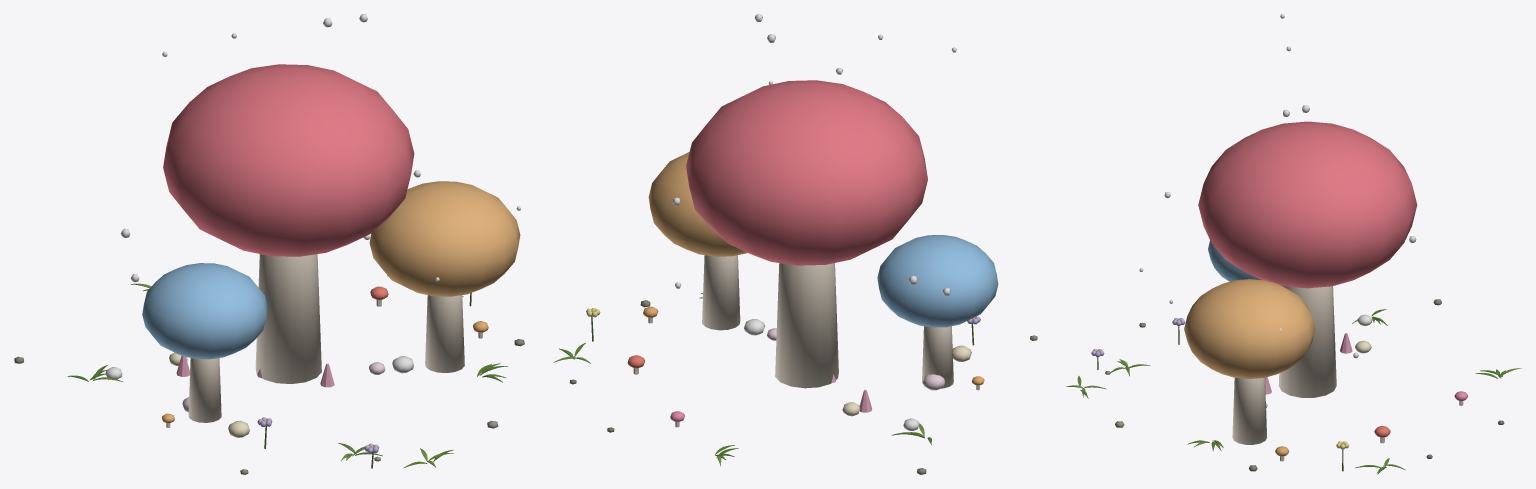
Rendered from gym_deco_grove_lite.glb.
3 renders of one model, left to right at view 1: azimuth 30°, elevation 25°; view 2: azimuth 150°, elevation 25°; view 3: azimuth 270°, elevation 25°, orthographic. The views are drawn at different scales.
Parts seen in each view (by area): view 1: Cone; view 2: Cone; view 3: Cone.
Boxes of the visible parts, x1=… form: Cone: x1=14, y1=14, x2=524, y2=474; Cone: x1=553, y1=14, x2=1037, y2=474; Cone: x1=1066, y1=14, x2=1521, y2=474.
Size of the model in its own units: 6.44 by 5.4 by 7.06.
